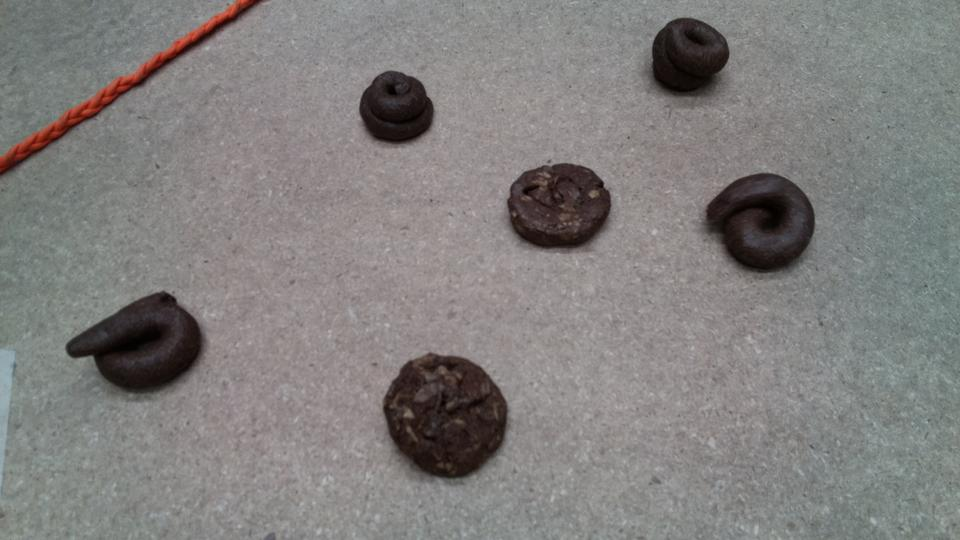poop: (381, 348, 514, 488), (61, 283, 225, 396), (707, 168, 818, 275), (503, 162, 616, 253), (642, 13, 736, 99), (354, 68, 443, 142)
rope: (1, 94, 94, 190), (165, 1, 272, 70), (81, 54, 187, 120)
